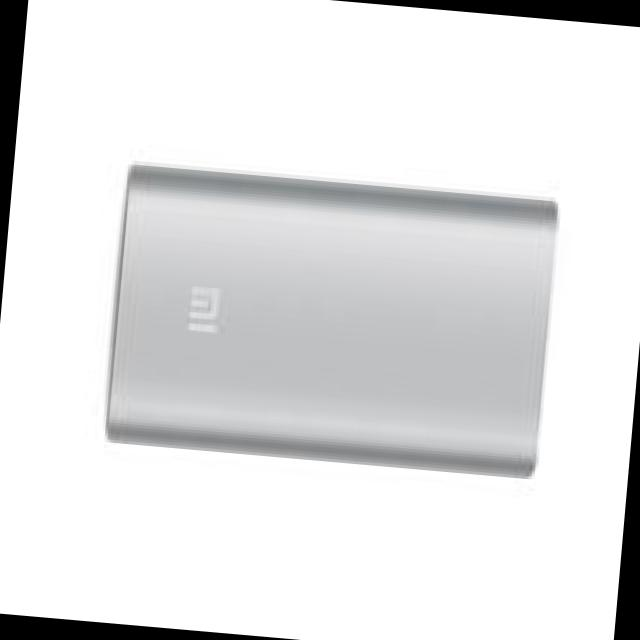portable-charger: (103, 158, 562, 482)
